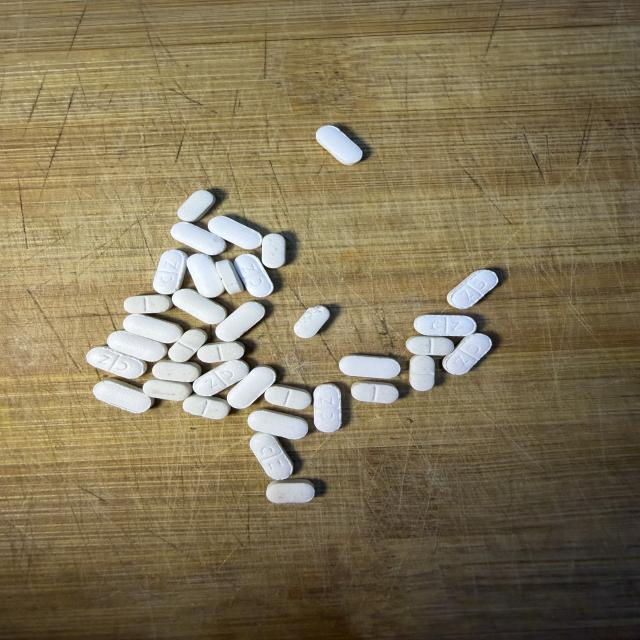pill: (227, 366, 276, 408), (193, 360, 249, 396), (93, 380, 154, 413), (447, 270, 498, 309), (250, 433, 293, 479), (216, 301, 265, 341), (443, 334, 491, 374), (86, 347, 146, 379), (107, 331, 167, 362), (173, 289, 226, 324), (171, 222, 226, 255), (316, 126, 362, 165), (209, 216, 262, 249), (248, 410, 308, 439), (123, 315, 183, 343), (234, 254, 273, 297), (187, 254, 224, 297), (153, 250, 187, 294), (339, 355, 400, 378), (414, 315, 476, 336), (314, 384, 341, 432), (169, 329, 207, 362), (177, 190, 215, 222), (183, 394, 230, 419), (266, 479, 314, 503), (265, 385, 311, 410), (294, 306, 329, 338), (143, 378, 191, 401), (152, 360, 201, 382), (351, 381, 398, 403), (198, 341, 244, 363), (216, 260, 243, 294), (406, 336, 453, 355), (124, 295, 172, 313), (410, 355, 434, 391), (262, 234, 285, 268)
